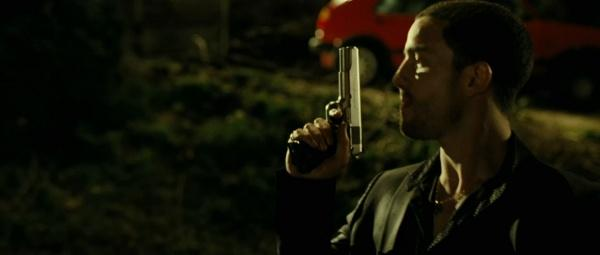Gun: (290, 43, 362, 171)
